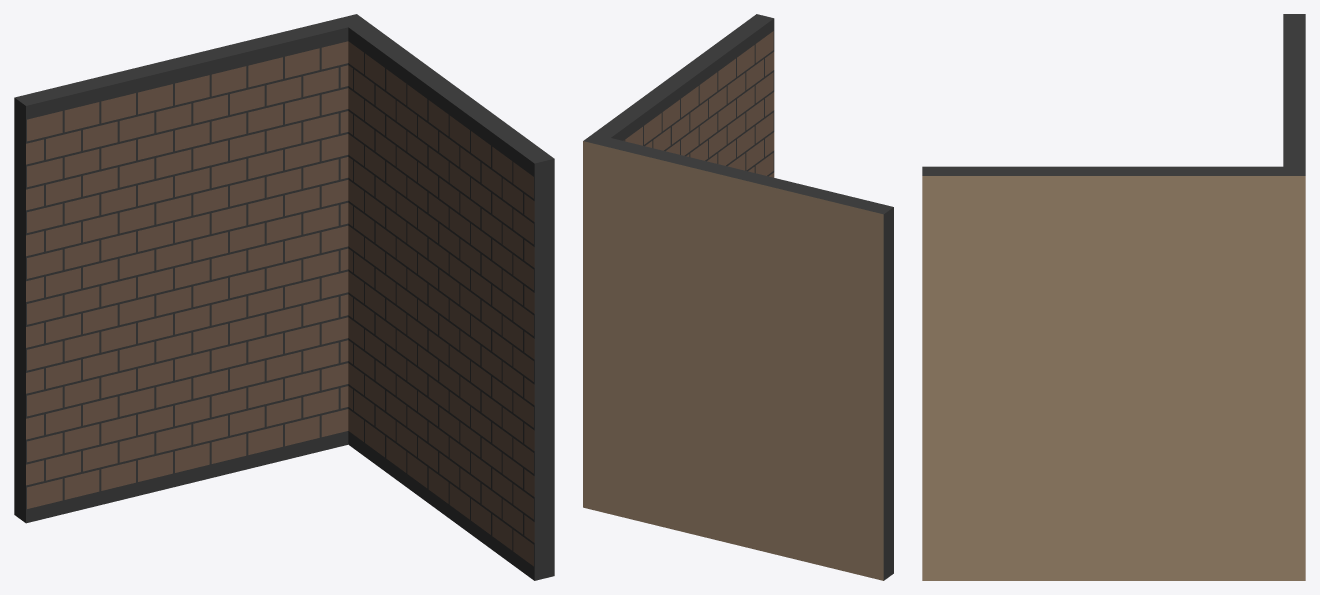
Rendered from Wall3_C10_06.fbx.
The picture shows the model from 3 angles, left to right: view 1: azimuth 30°, elevation 25°; view 2: azimuth 150°, elevation 25°; view 3: azimuth 270°, elevation 25°; orthographic projection. The views are drawn at different scales.
Parts seen in each view (by area): view 1: Wall3_C10_06; view 2: Wall3_C10_06; view 3: Wall3_C10_06.
Part boxes in pixels (left/top/right/bottom): Wall3_C10_06: left=14, top=14, right=554, bottom=580; Wall3_C10_06: left=583, top=14, right=893, bottom=580; Wall3_C10_06: left=922, top=14, right=1305, bottom=580.
Size of the model in its own units: 258 by 300 by 258.
